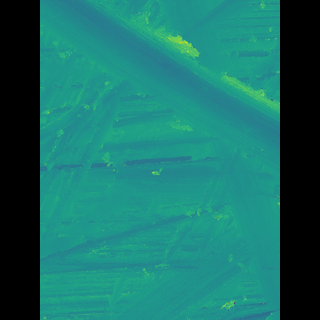Loch: (69, 0, 250, 175), (114, 221, 230, 319)
